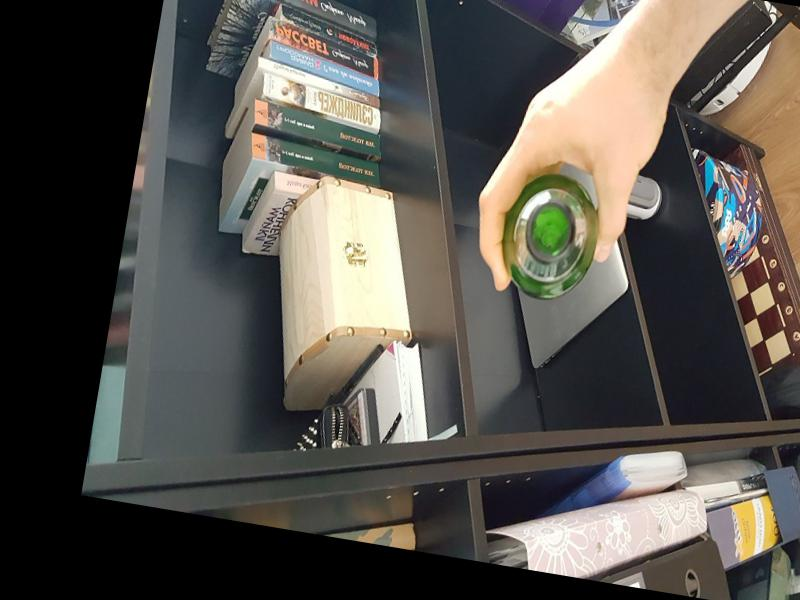Beer: (495, 170, 607, 299)
